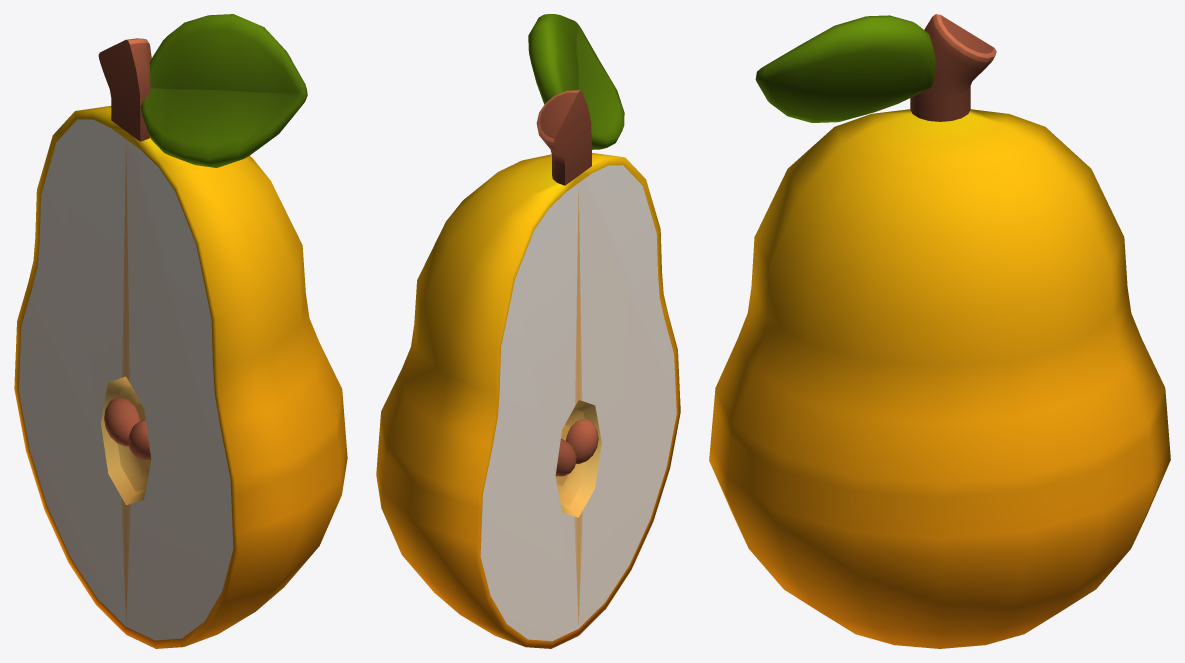
Rendered from Pear_V2_01.fbx.
The picture shows the model from 3 angles, left to right: view 1: azimuth 30°, elevation 25°; view 2: azimuth 150°, elevation 25°; view 3: azimuth 270°, elevation 25°; orthographic projection. The views are drawn at different scales.
Parts seen in each view (by area): view 1: Pear_V2_01; view 2: Pear_V2_01; view 3: Pear_V2_01.
Boxes of the visible parts, x1,y1,x2,y2 form: Pear_V2_01: (14,14,347,648); Pear_V2_01: (376,14,680,648); Pear_V2_01: (709,14,1170,648).
Bounding box in the file's own units: 13.37 × 39.99 × 25.83.
